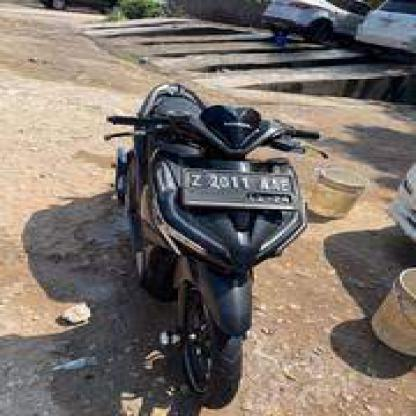bike: (104, 80, 326, 413)
